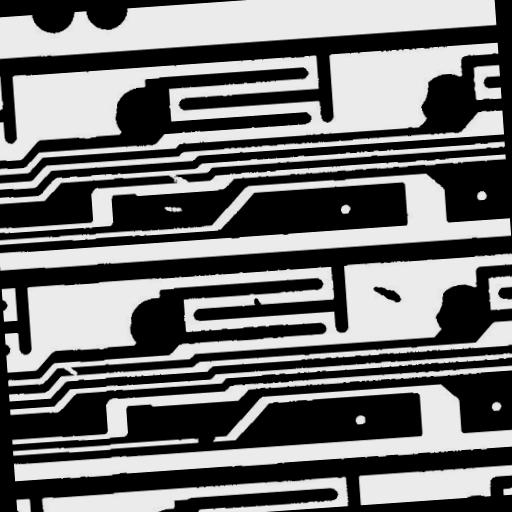copper: (365, 276, 409, 312)
open: (161, 164, 196, 192), (56, 358, 86, 384)
pin-hole: (156, 197, 190, 220)
short: (189, 425, 223, 453)
spur: (246, 290, 269, 316)
